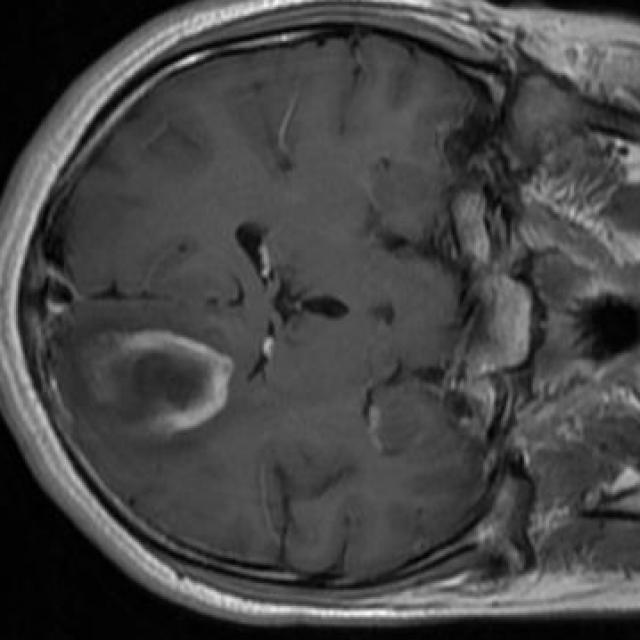glioma: (70, 330, 232, 451)
